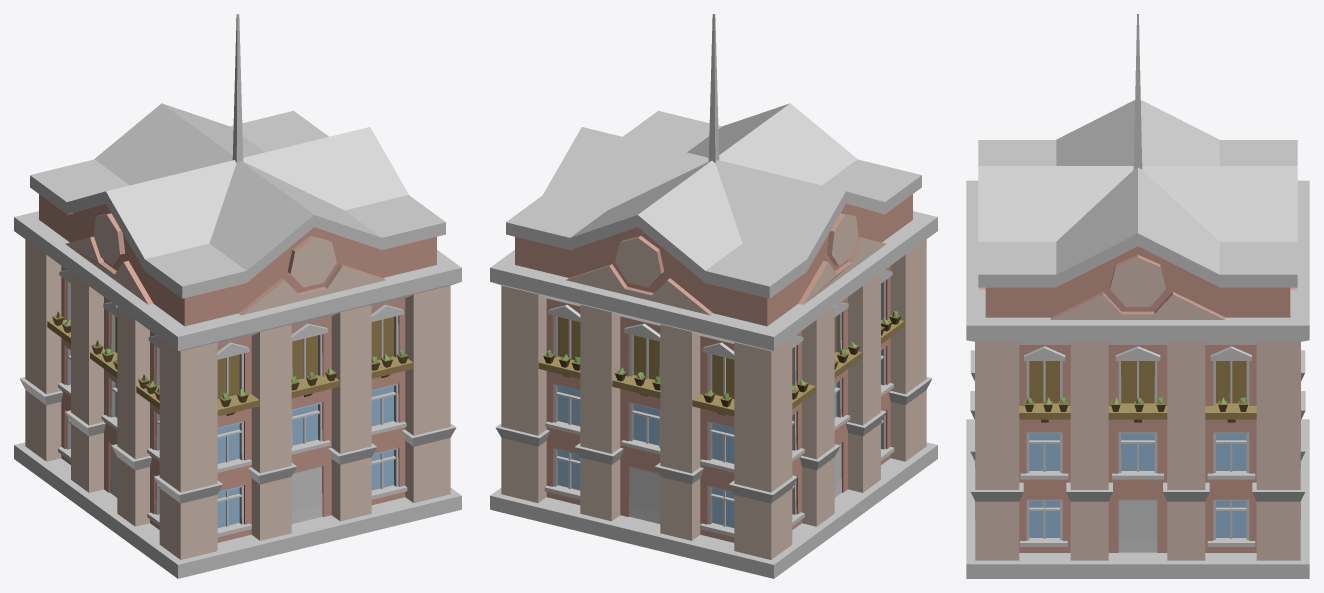
Rendered from house_art_002.glb.
The picture shows the model from 3 angles, left to right: view 1: azimuth 30°, elevation 25°; view 2: azimuth 150°, elevation 25°; view 3: azimuth 270°, elevation 25°; orthographic projection. The views are drawn at different scales.
Parts seen in each view (by area): view 1: house_art_002; view 2: house_art_002; view 3: house_art_002.
Part boxes in pixels (x1,y1,x2,y2): house_art_002: [14, 14, 461, 578]; house_art_002: [490, 14, 937, 578]; house_art_002: [966, 14, 1309, 578].
Bounding box in the file's own units: 11.71 × 18.52 × 11.71.
1 material, 1 textured.
